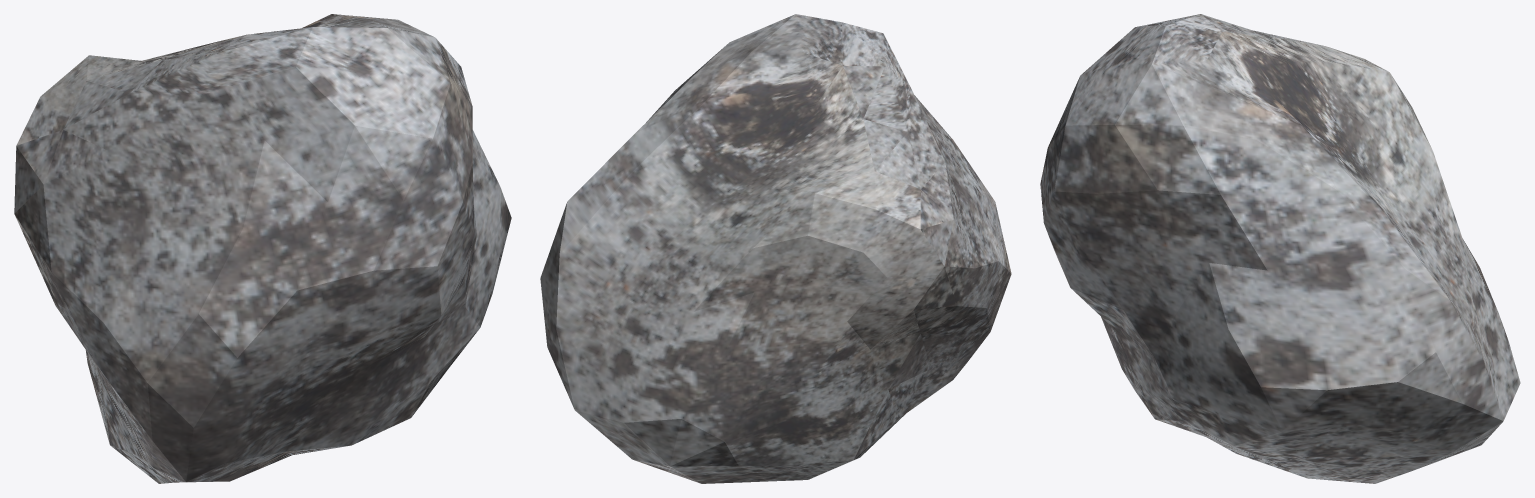
The model's file is Asteroid_Medium_004.fbx.
3 renders of one model, left to right at view 1: azimuth 30°, elevation 25°; view 2: azimuth 150°, elevation 25°; view 3: azimuth 270°, elevation 25°, orthographic. The views are drawn at different scales.
Visible parts, largest first — view 1: Asteroid_Medium_004; view 2: Asteroid_Medium_004; view 3: Asteroid_Medium_004.
Boxes of the visible parts, x1,y1,x2,y2 form: Asteroid_Medium_004: [14, 14, 511, 483]; Asteroid_Medium_004: [540, 14, 1011, 483]; Asteroid_Medium_004: [1040, 14, 1520, 483].
Bounding box in the file's own units: 26.01 × 26.01 × 26.2.
1 material, 1 textured.
